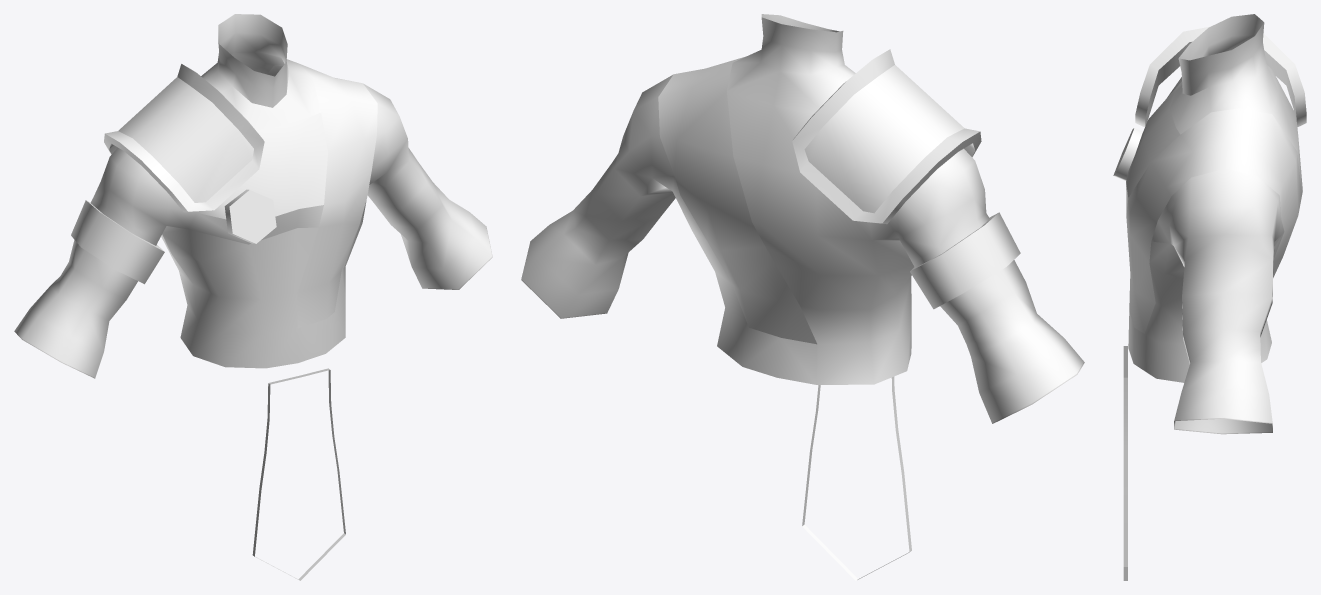
File: hum_berserker_01_6ba59efa.glb
3 renders of one model, left to right at view 1: azimuth 30°, elevation 25°; view 2: azimuth 150°, elevation 25°; view 3: azimuth 270°, elevation 25°, orthographic. The views are drawn at different scales.
Size of the model in its own units: 1.32 by 1.41 by 0.4421.
1 material, 1 textured.
